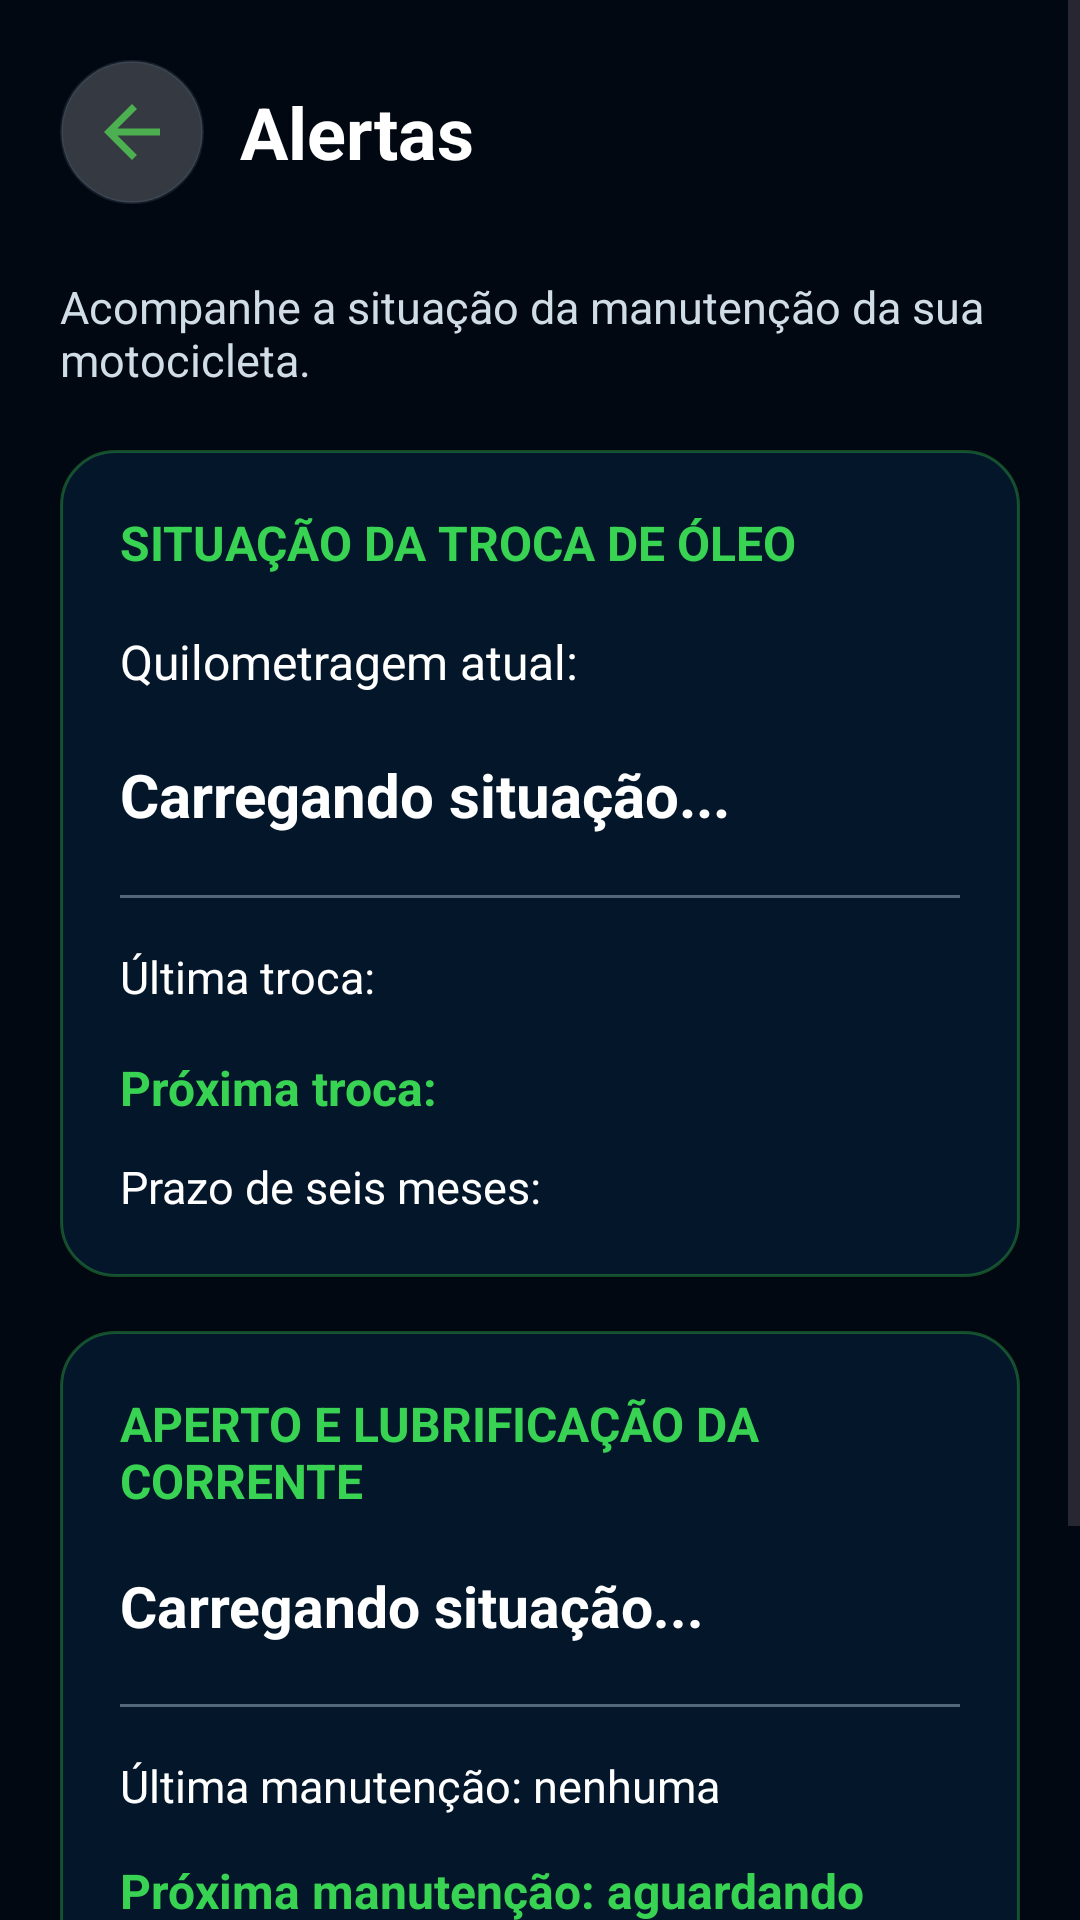

Icons on this 1080×1920 Android screen, each with its box as [x1=x1, y1=y1, x2=x2, y2=y2]:
Voltar: [x1=60, y1=60, x2=203, y2=204]
